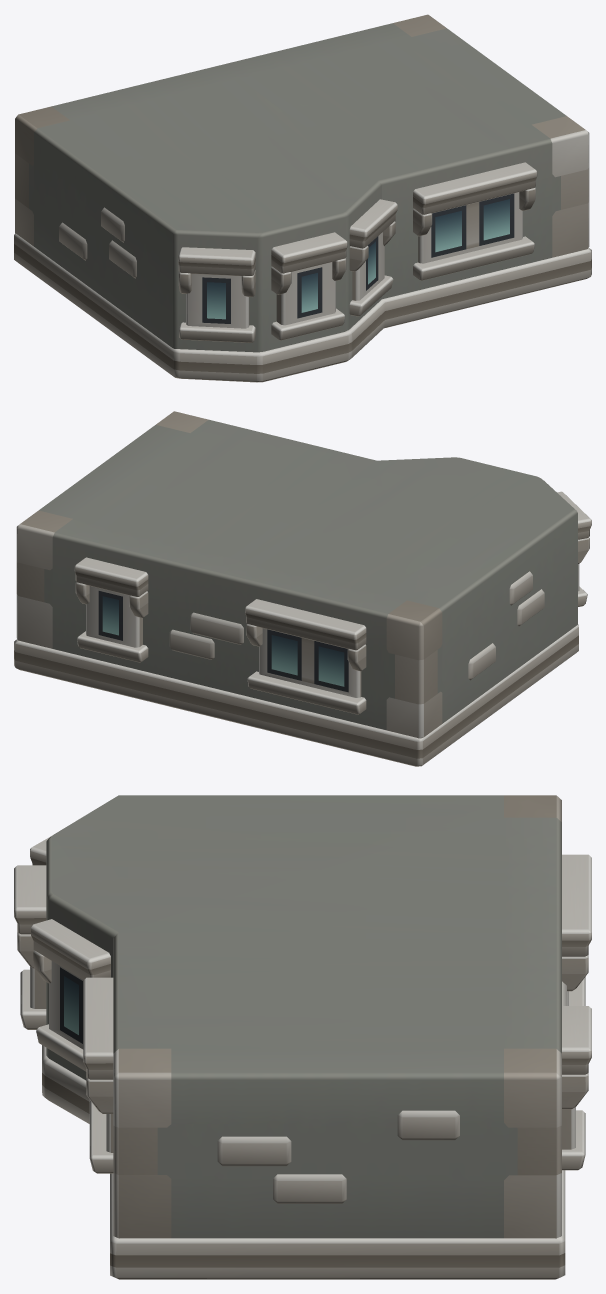
File: apartment_type2_element_grey.fbx
3 renders of one model, top to bottom at view 1: azimuth 30°, elevation 25°; view 2: azimuth 150°, elevation 25°; view 3: azimuth 270°, elevation 25°, orthographic. The views are drawn at different scales.
Parts seen in each view (by area): view 1: apartment_type2_element_grey; view 2: apartment_type2_element_grey; view 3: apartment_type2_element_grey.
Boxes of the visible parts, x1,y1,x2,y2 form: apartment_type2_element_grey: [14, 14, 591, 382]; apartment_type2_element_grey: [14, 411, 591, 766]; apartment_type2_element_grey: [14, 795, 591, 1279].
Bounding box in the file's own units: 1225 × 409 × 1043.
